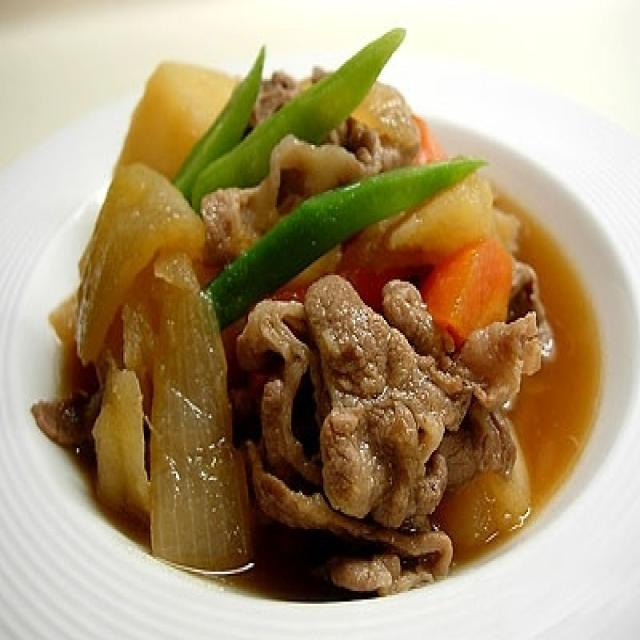牛肉菜式: (34, 28, 619, 608)
